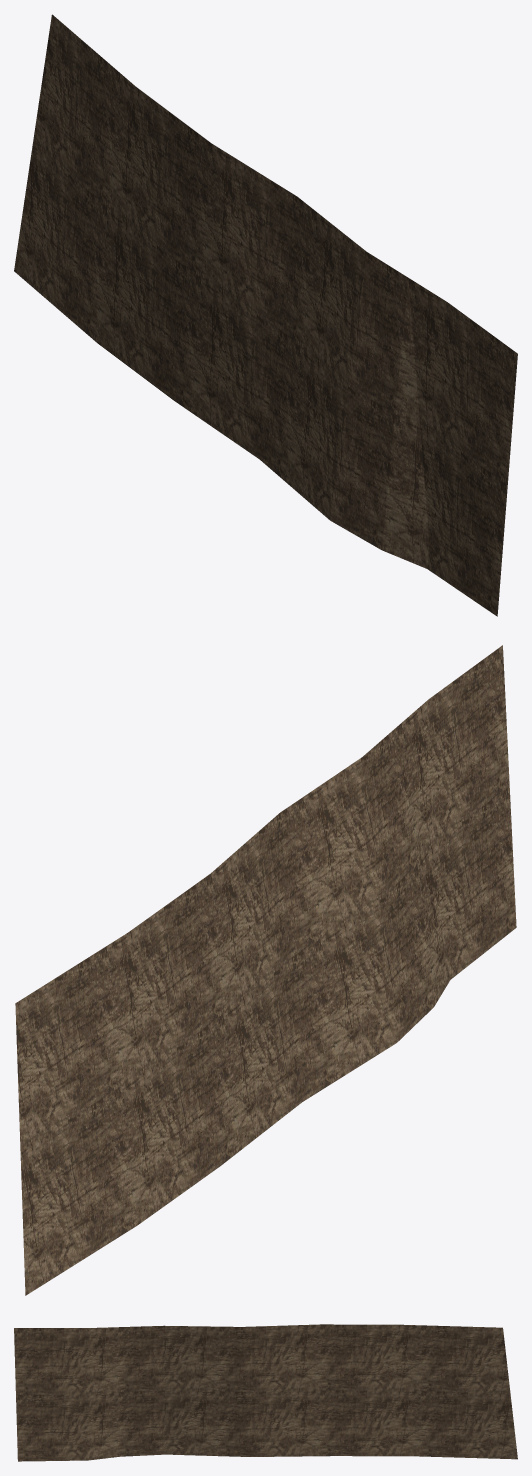
File: sbvgseseafloor07.obj
The picture shows the model from 3 angles, top to bottom: view 1: azimuth 30°, elevation 25°; view 2: azimuth 150°, elevation 25°; view 3: azimuth 270°, elevation 25°; orthographic projection. The views are drawn at different scales.
Visible parts, largest first — view 1: sbvgsEseafloor07; view 2: sbvgsEseafloor07; view 3: sbvgsEseafloor07.
Part boxes in pixels (x1=…): sbvgsEseafloor07: x1=14, y1=14, x2=517, y2=616; sbvgsEseafloor07: x1=15, y1=645, x2=516, y2=1295; sbvgsEseafloor07: x1=14, y1=1324, x2=517, y2=1461.
Bounding box in the file's own units: 12.25 × 70 × 232.
1 material, 1 textured.
